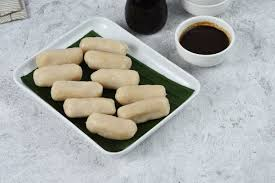Pempek lenjer: (85, 109, 138, 141), (116, 96, 172, 125), (115, 83, 168, 108), (50, 80, 108, 102), (24, 64, 87, 84), (62, 96, 118, 118), (85, 47, 133, 71), (80, 33, 128, 55), (34, 47, 86, 67), (92, 69, 143, 86)
